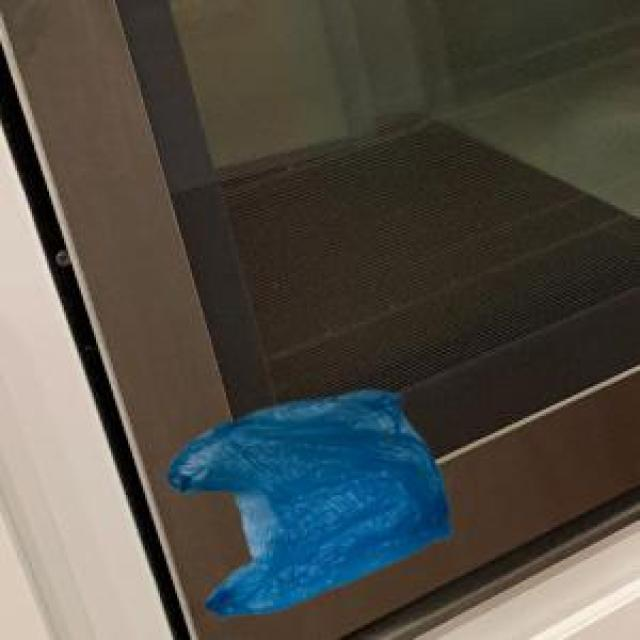plastic: (116, 319, 498, 614)
